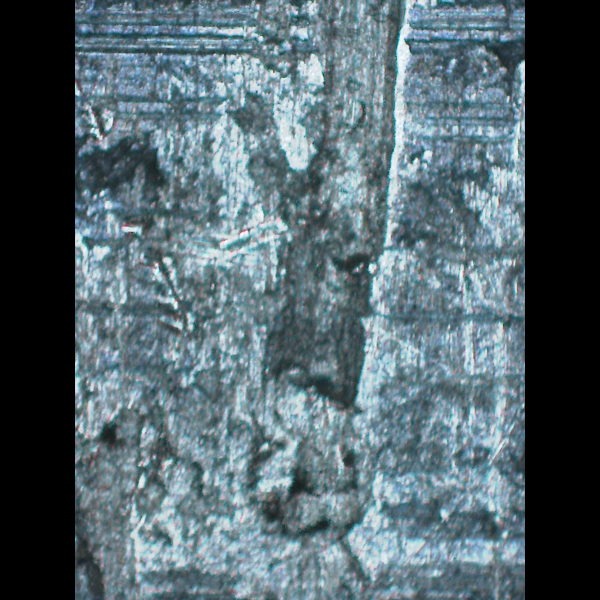d: (219, 0, 426, 551)
